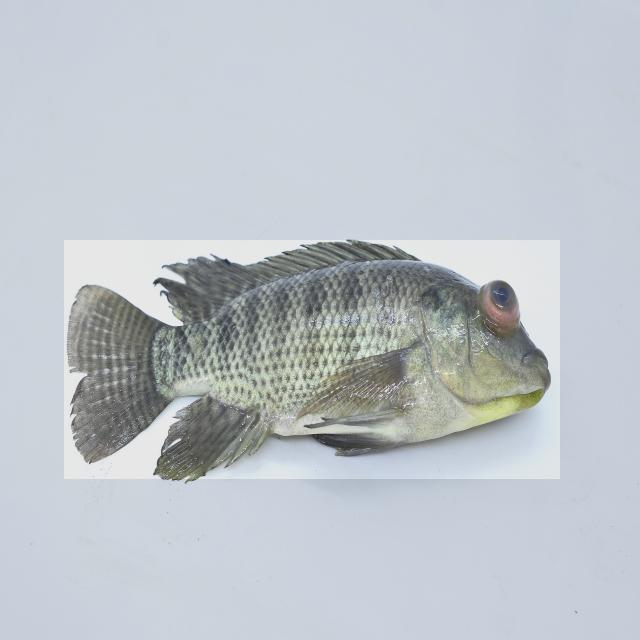streptococcus Disease: (64, 240, 560, 479)
